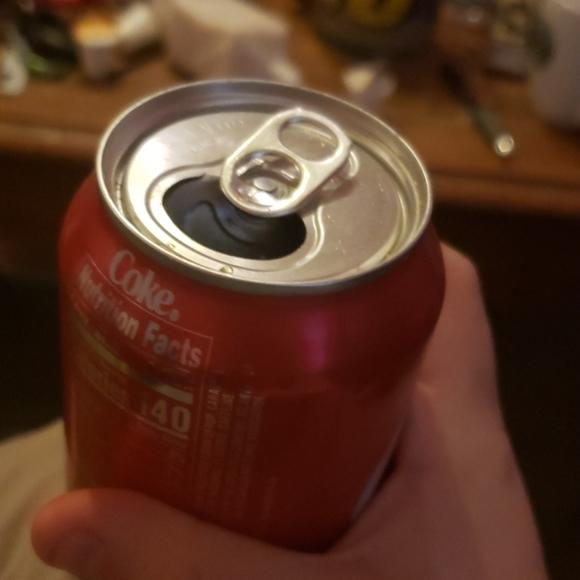metal: (57, 76, 449, 543)
